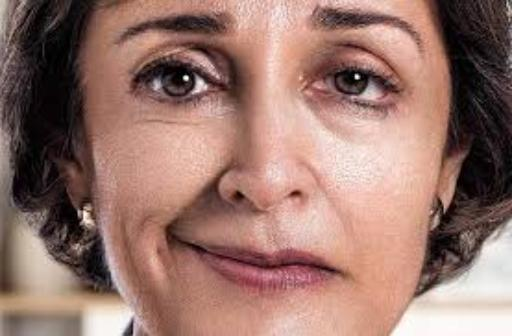left_eye: (328, 69, 400, 105)
left_lip_corner: (321, 264, 357, 283)
right_eye: (137, 62, 233, 98)
right_lip_corner: (169, 231, 211, 261)
